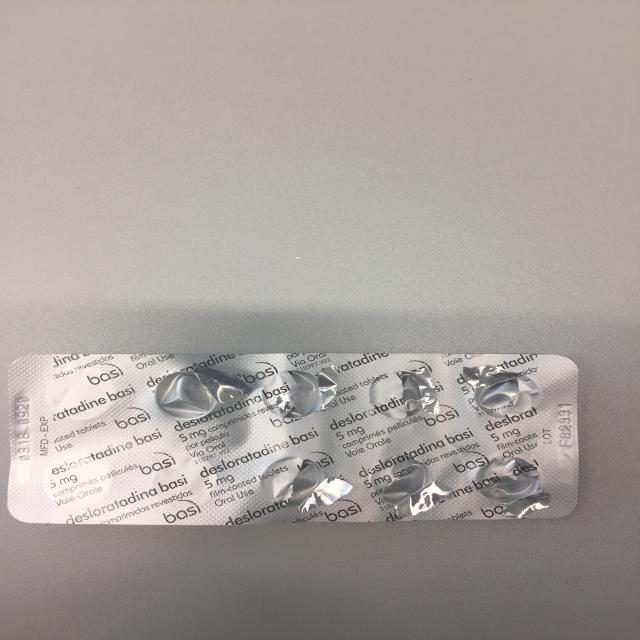Empty: (148, 364, 244, 425), (250, 451, 336, 512), (358, 453, 441, 512), (471, 455, 551, 515), (363, 367, 448, 422), (255, 366, 338, 421), (464, 366, 546, 421)
Pill: (37, 451, 118, 514), (145, 452, 224, 512), (41, 368, 128, 422)
